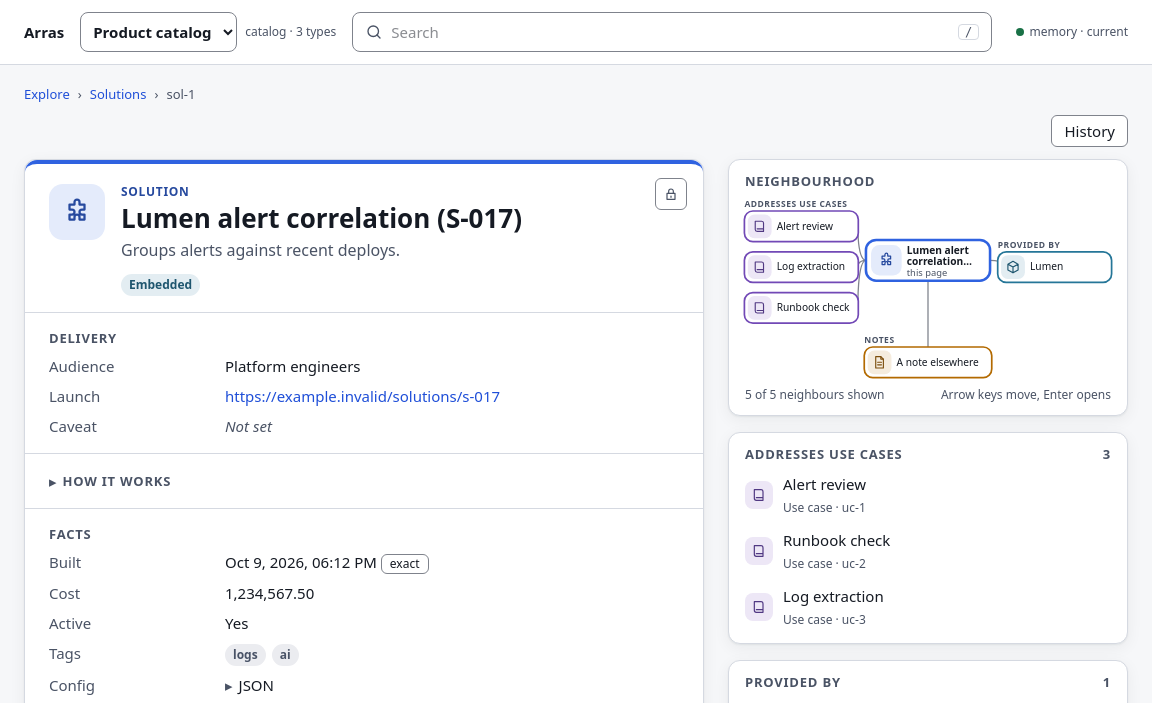
Test: editing a property in place › shows why a form was refused and keeps it open
Click the button named "Edit mode".
click(671, 194)  # box [655,178,687,210]
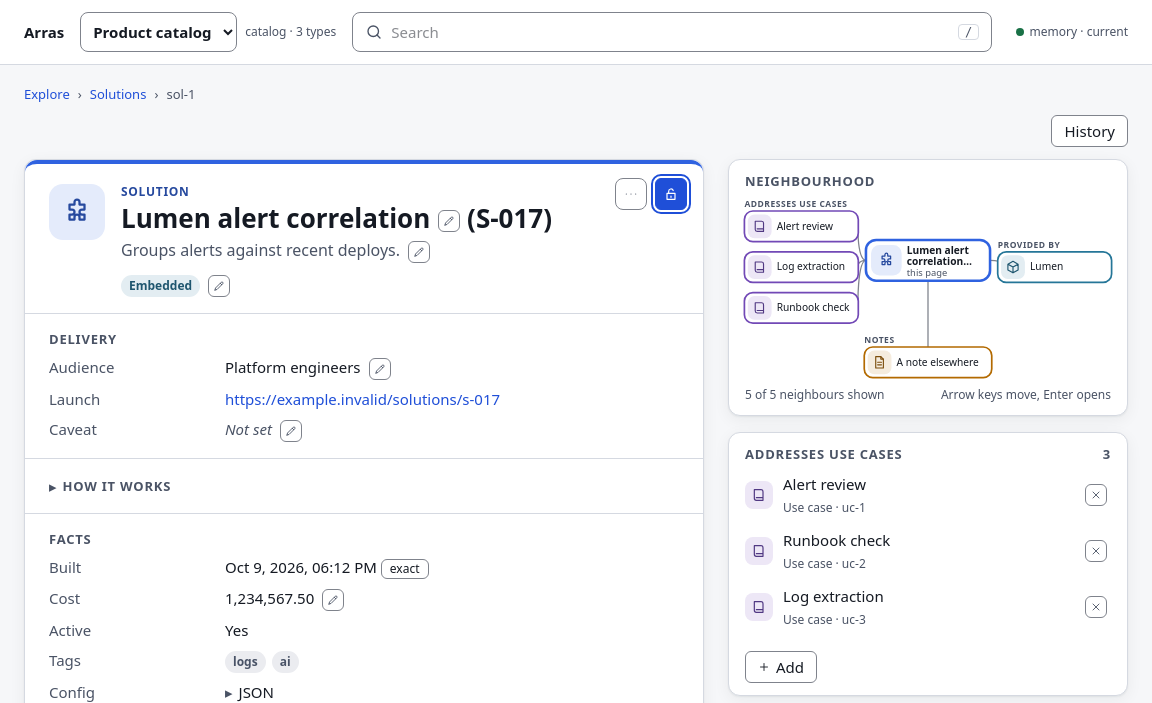
Click the button named "Edit Caveat".
click(291, 431)  # box [280,420,302,442]
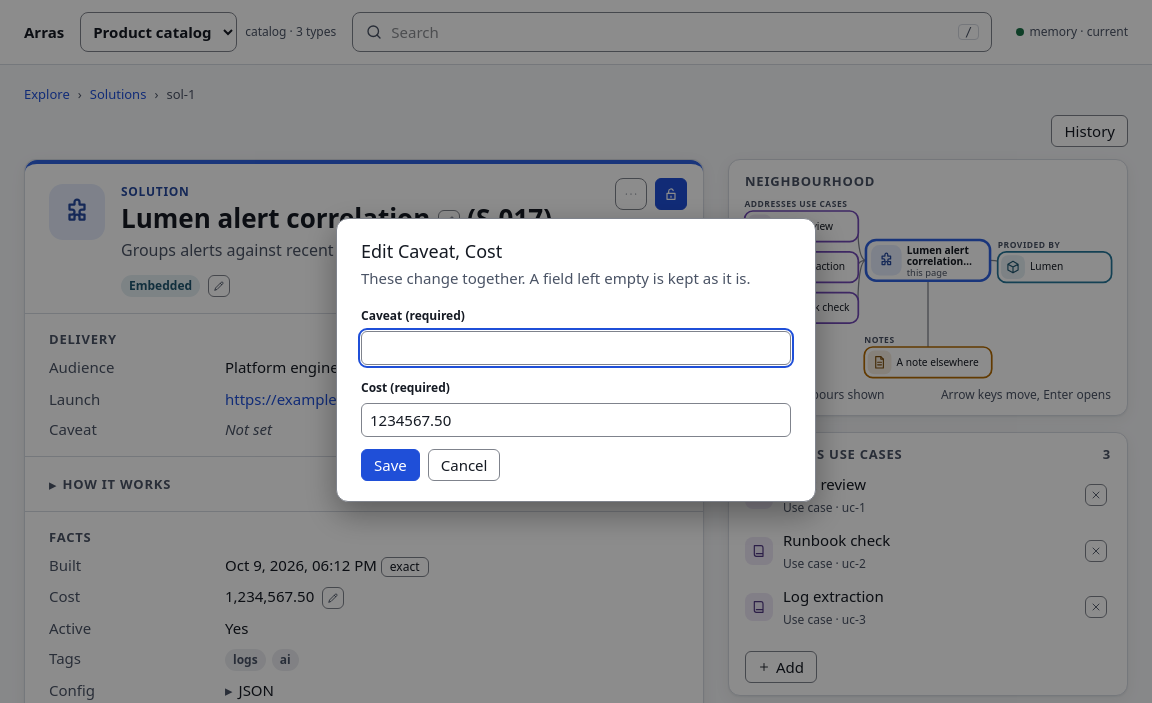
Type "x" into the field labelled "Caveat (required)".
click(576, 348); type("x")  # box [361,331,791,365]
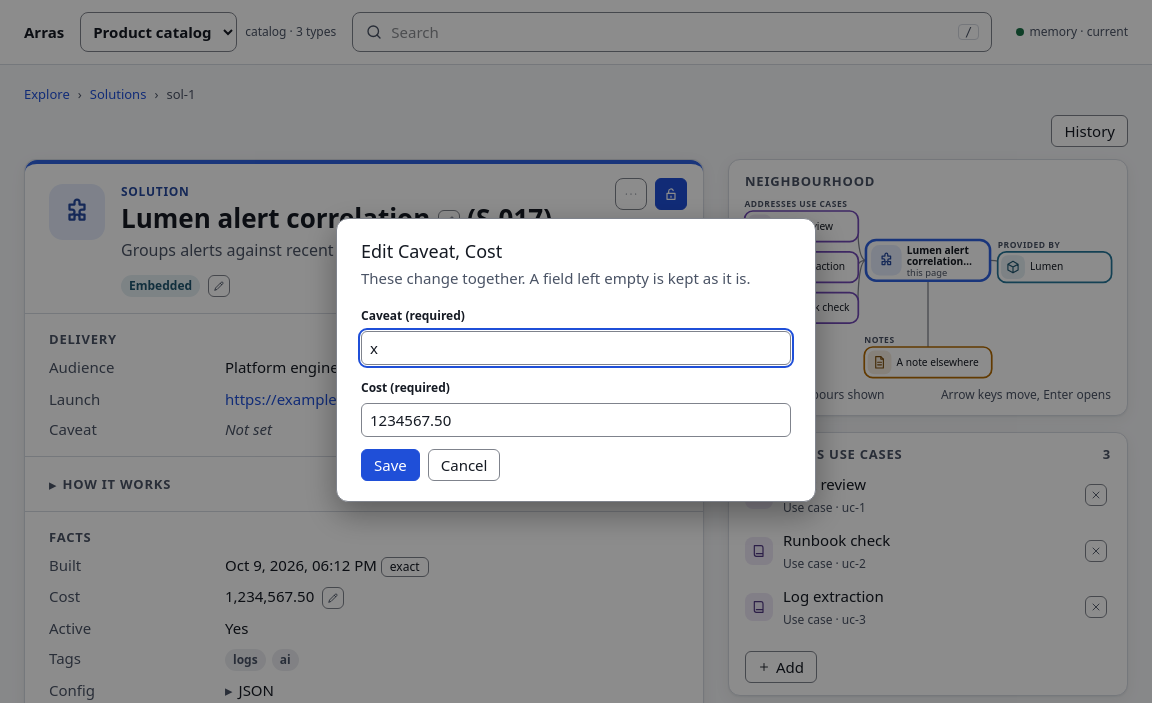
Click the button "Save".
click(390, 465)  # box [361,449,420,481]
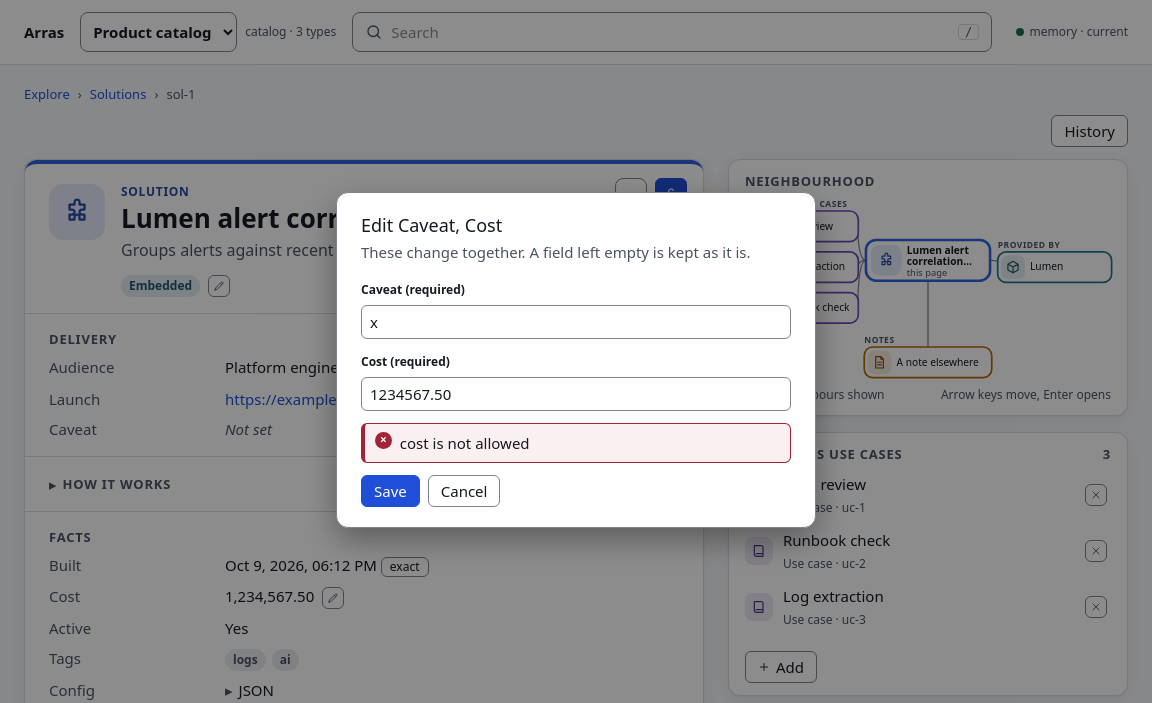
Result: the dialog is shown at [336,192,816,528]
Result: the message shows "cost is not allowed" at [400,433,530,453]
